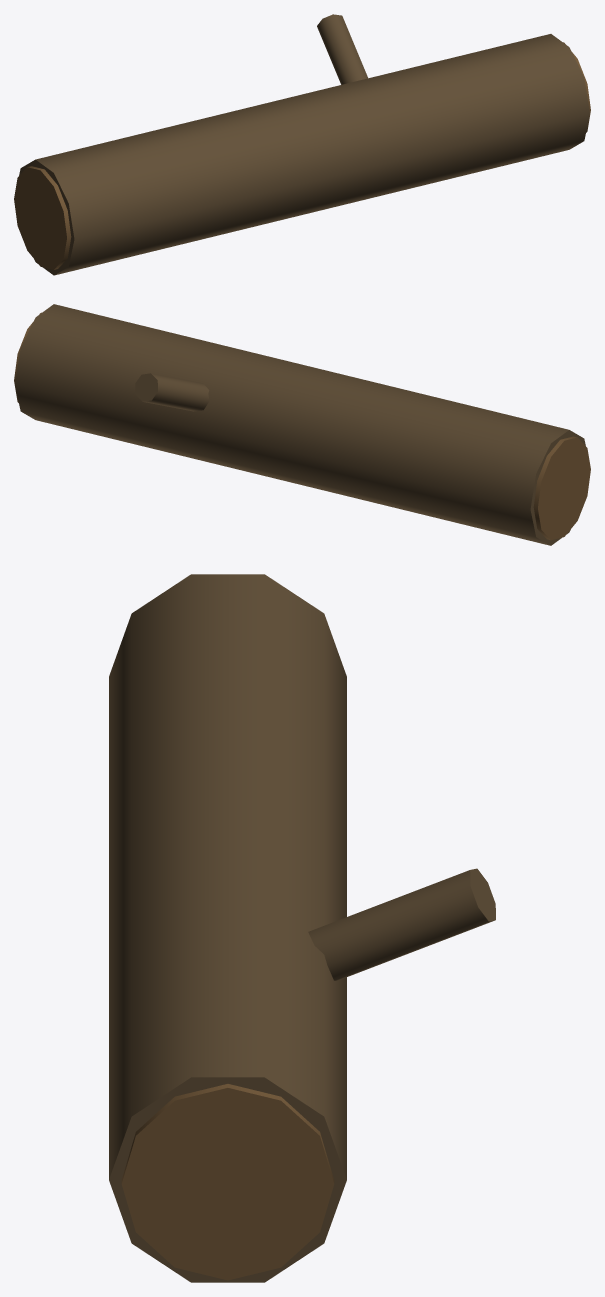
The model's file is fallen-log.glb.
The picture shows the model from 3 angles, top to bottom: view 1: azimuth 30°, elevation 25°; view 2: azimuth 150°, elevation 25°; view 3: azimuth 270°, elevation 25°; orthographic projection. The views are drawn at different scales.
Visible parts, largest first — view 1: Bark, Timber; view 2: Bark, Timber; view 3: Bark, Timber.
Boxes of the visible parts, x1,y1,x2,y2 form: Bark: (19,14,589,275); Timber: (14,42,590,269); Bark: (15,304,585,545); Timber: (14,312,590,540); Bark: (109,574,495,1282); Timber: (121,1084,334,1280).
Bounding box in the file's own units: 2.84 × 0.6491 × 0.9105.
